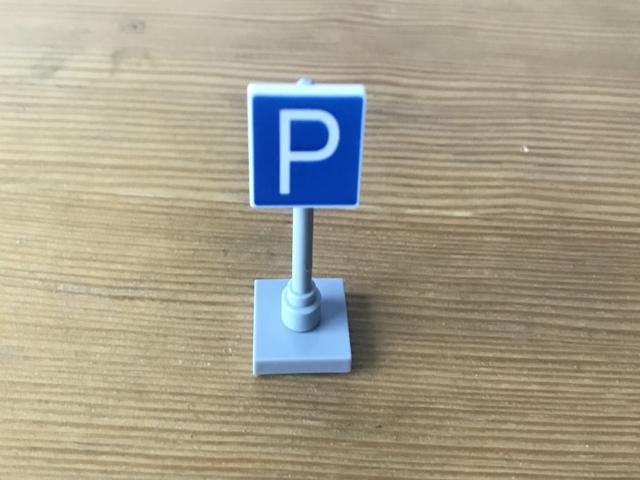parken: (246, 85, 366, 208)
